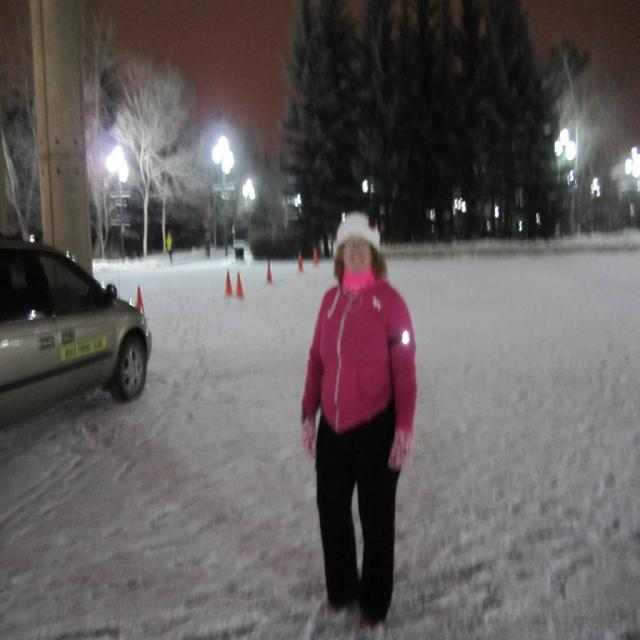car: (0, 238, 150, 404)
